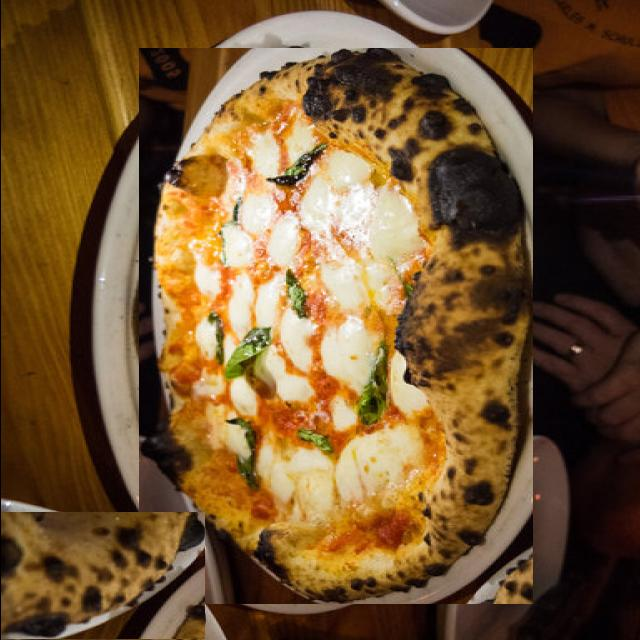basil: (409, 416, 447, 491), (396, 326, 448, 380), (345, 142, 406, 185), (281, 341, 311, 427), (363, 269, 388, 318), (256, 258, 282, 298), (335, 430, 372, 456), (447, 313, 465, 365)
pizza: (138, 48, 532, 604), (0, 512, 204, 639)
